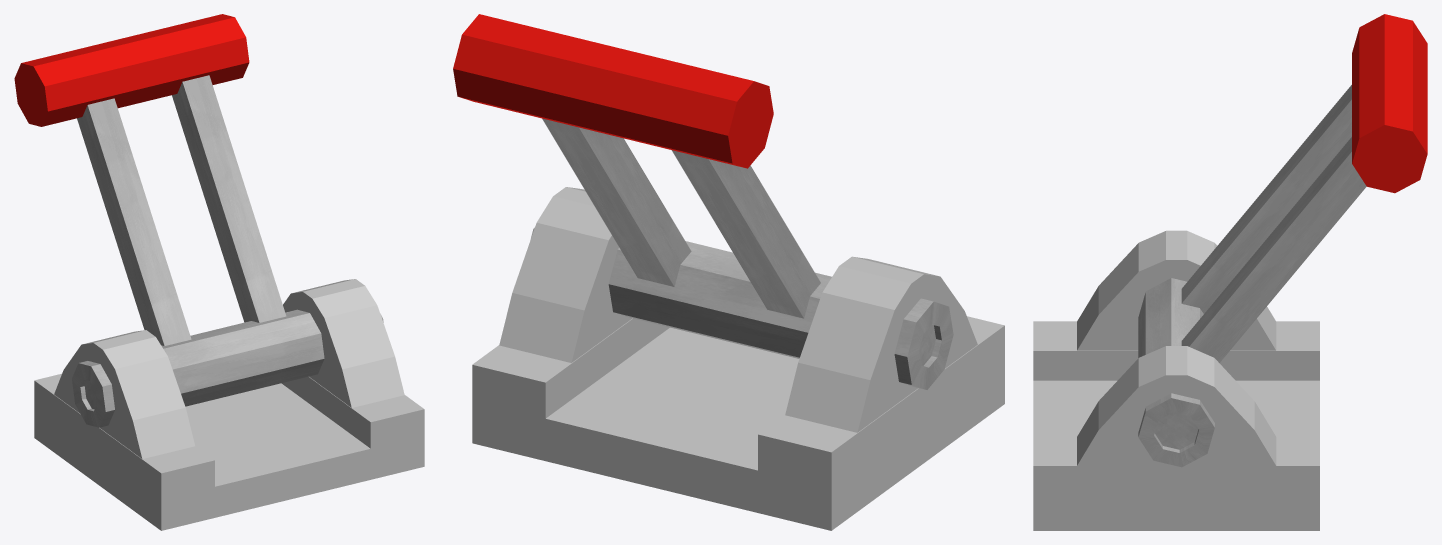
Rendered from lever.fbx.
3 views of the same model, side by side, from view 1: azimuth 30°, elevation 25°; view 2: azimuth 150°, elevation 25°; view 3: azimuth 270°, elevation 25° (orthographic). The views are drawn at different scales.
Visible parts, largest first — view 1: palanca, Palanca cilindro; view 2: palanca, Palanca cilindro; view 3: palanca, Palanca cilindro.
Part boxes in pixels (left/top/right/bottom): palanca: left=34, top=279, right=424, bottom=530; Palanca cilindro: left=14, top=14, right=383, bottom=427; palanca: left=472, top=187, right=1004, bottom=530; Palanca cilindro: left=453, top=14, right=953, bottom=389; palanca: left=1033, top=230, right=1319, bottom=530; Palanca cilindro: left=1138, top=14, right=1427, bottom=467.
Size of the model in its own units: 14.27 by 16.71 by 15.4.
